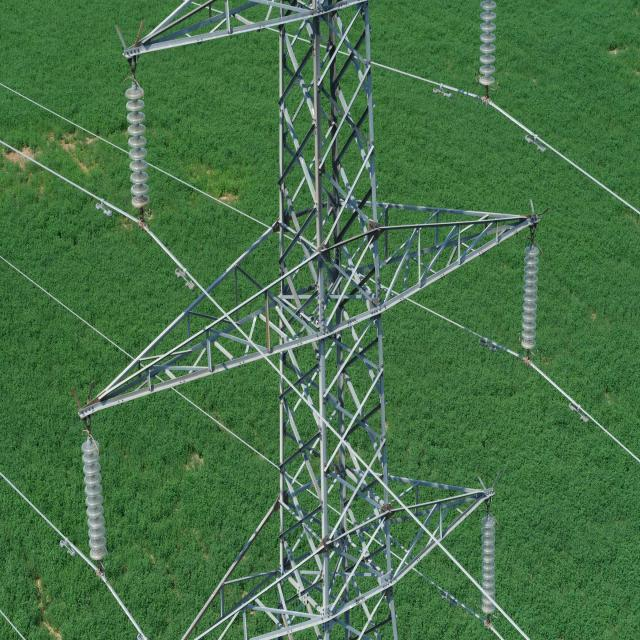direk: (273, 0, 407, 640)
